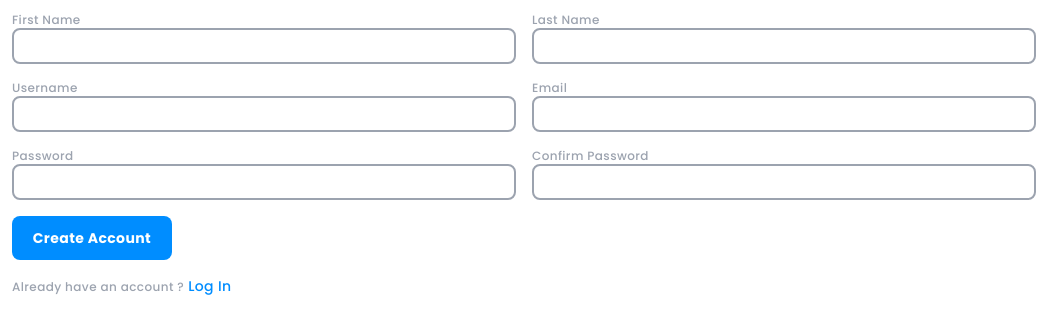
Test: signUpForm component › should disable the submit button immediately after user submits the form
Type "Ashish" into the field labelled "First Name". click: coordinates (264, 46)
box: left=12, top=28, right=516, bottom=64
Type "Ranjan" into the field labelled "Last Name". click: coordinates (784, 46)
box: left=532, top=28, right=1036, bottom=64
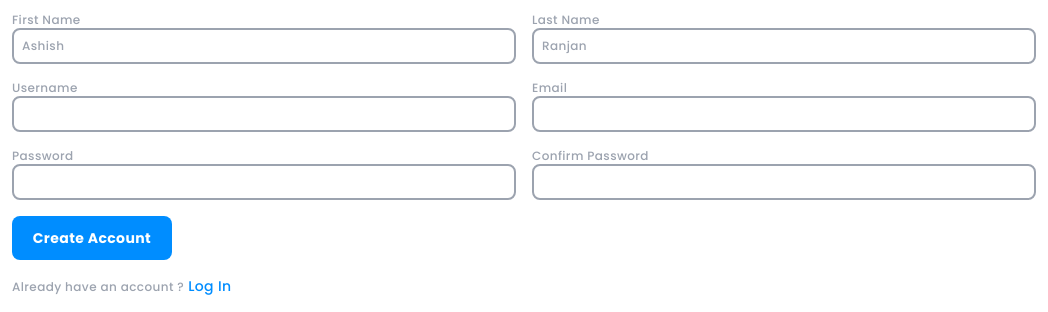
Type "ashishranjan001" into the field labelled "Username". click: coordinates (264, 114)
box: left=12, top=96, right=516, bottom=132
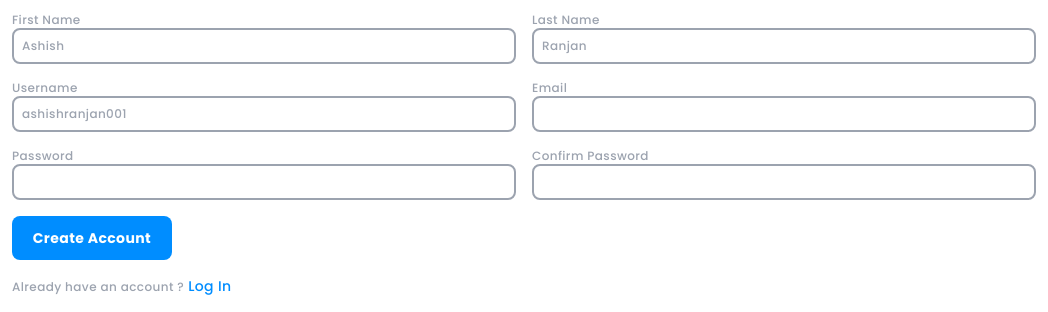
Type "testuser7416@gmail.com" into the field labelled "Email". click: coordinates (784, 114)
box: left=532, top=96, right=1036, bottom=132
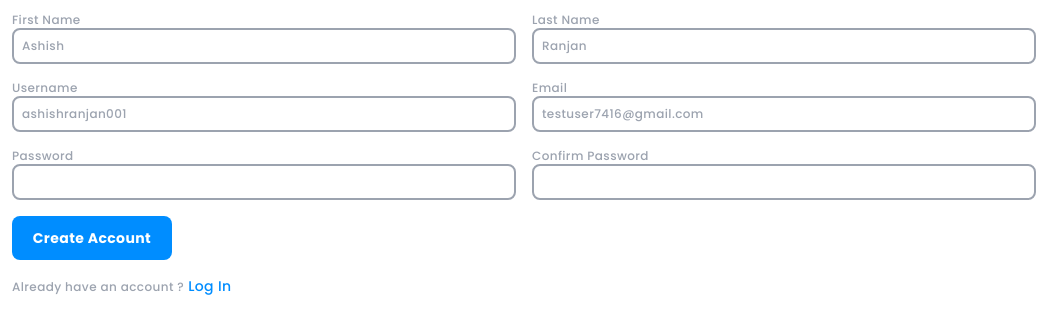
Type "12345678" into the password field labelled "Password". click: coordinates (264, 182)
box: left=12, top=164, right=516, bottom=200
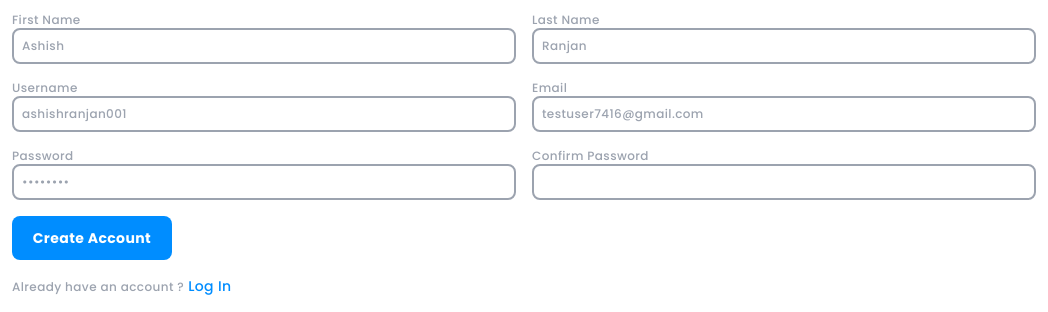
Type "12345678" into the password field labelled "Confirm Password". click: coordinates (784, 182)
box: left=532, top=164, right=1036, bottom=200
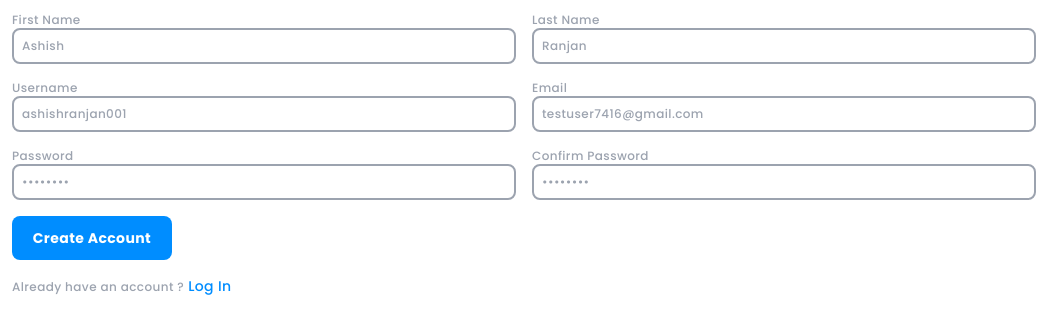
Click the button "Create Account". click: coordinates (92, 238)
box: left=12, top=216, right=172, bottom=260
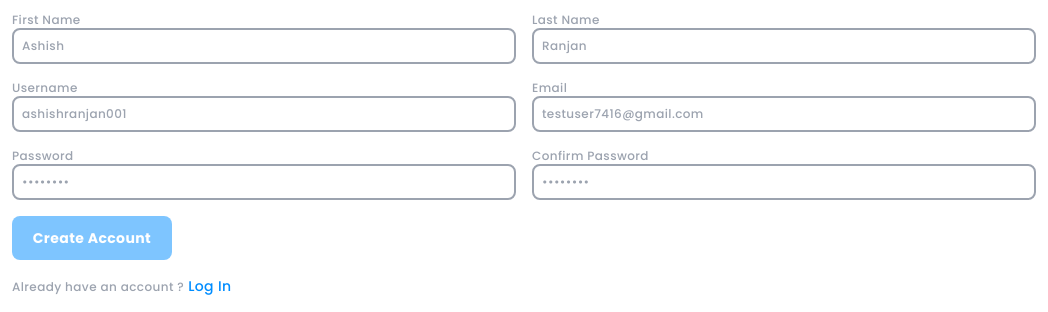
Expected: the button "Create Account" is disabled, left=12, top=216, right=172, bottom=260
